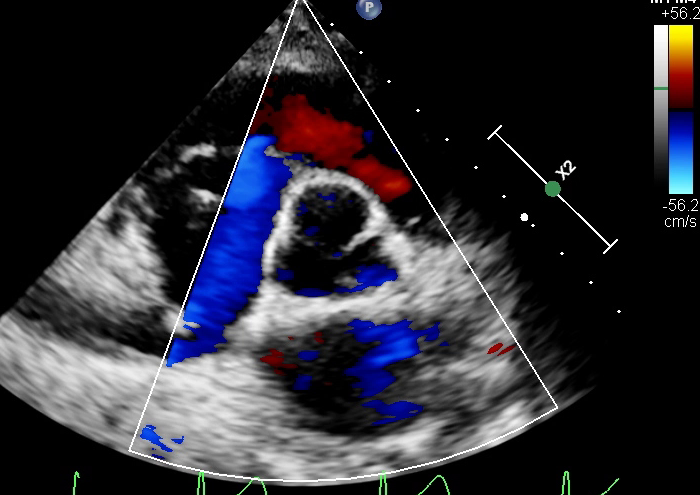TR: (184, 306, 248, 349)
